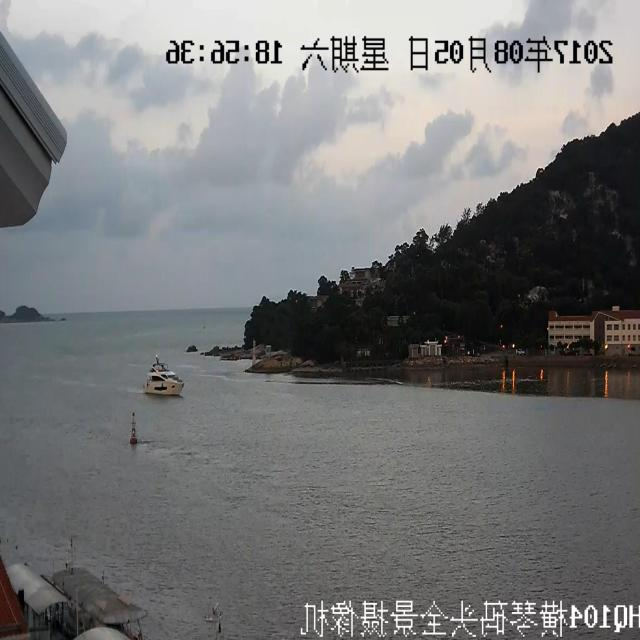buoy: (125, 410, 143, 449)
passenger ship: (136, 347, 192, 398)
